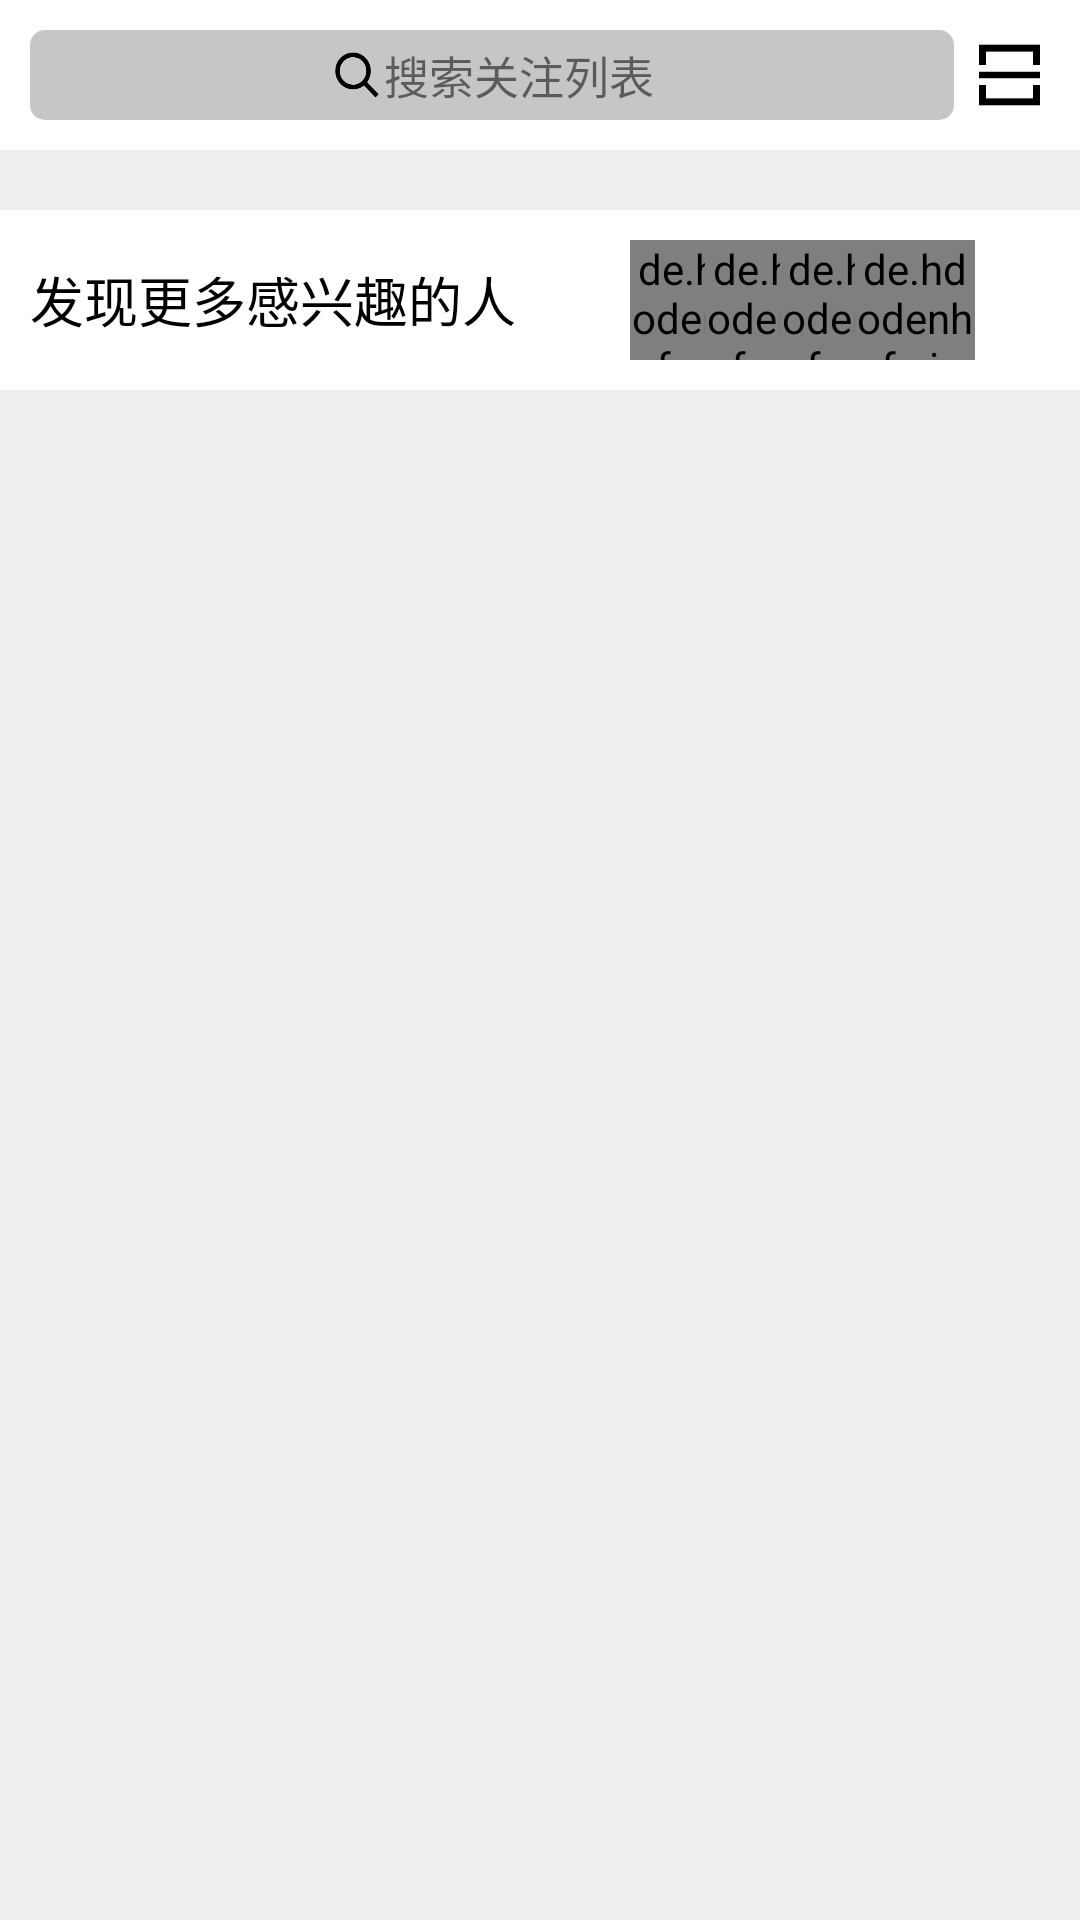

Icons on this 1080px x 1920px Android screen, each with its box as (x1, y1, x2, y2):
scanning: (979, 44, 1040, 106)
